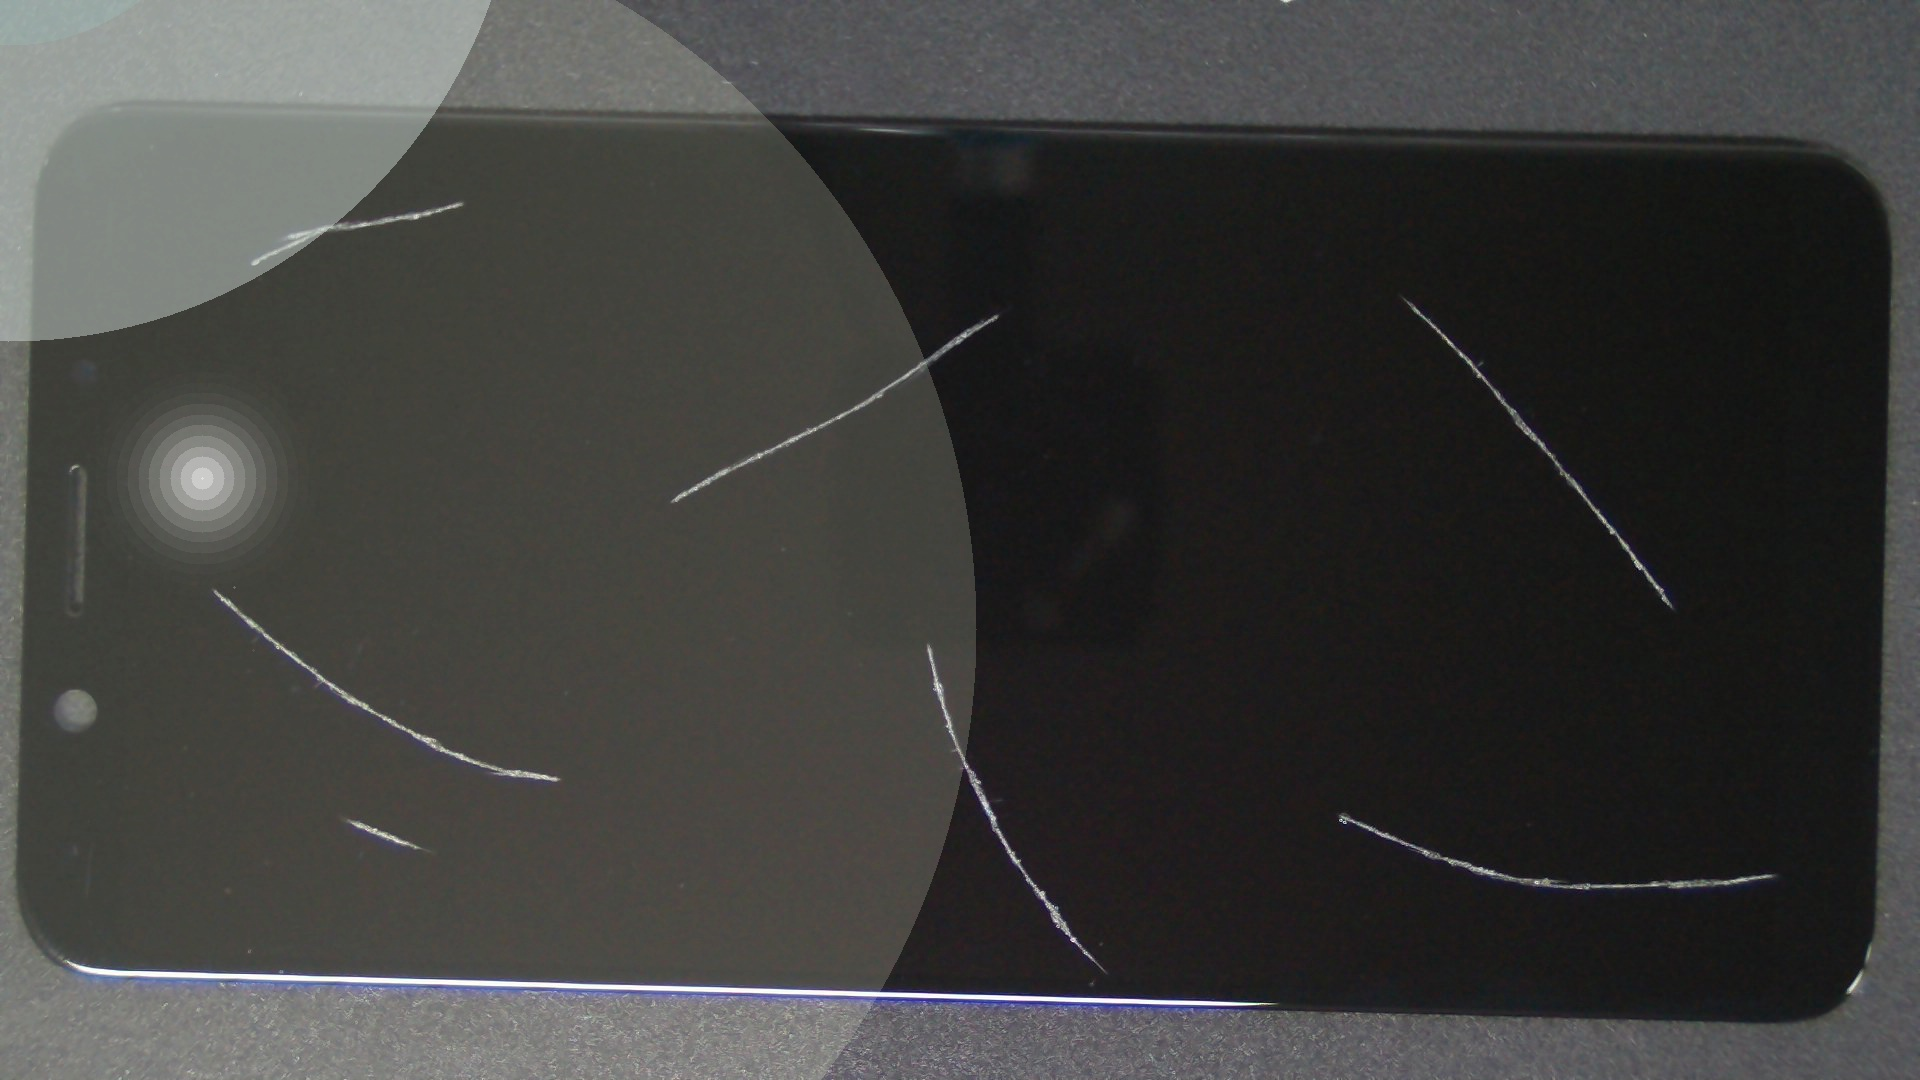oil: (673, 405, 1920, 1080), (463, 319, 1390, 963), (702, 148, 1920, 444), (498, 157, 1495, 472), (173, 407, 517, 1080), (108, 293, 320, 881), (229, 99, 687, 301)
